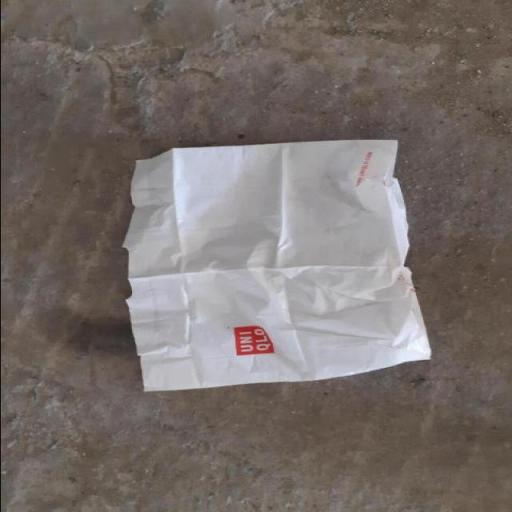plastic-bag: (120, 136, 434, 395)
